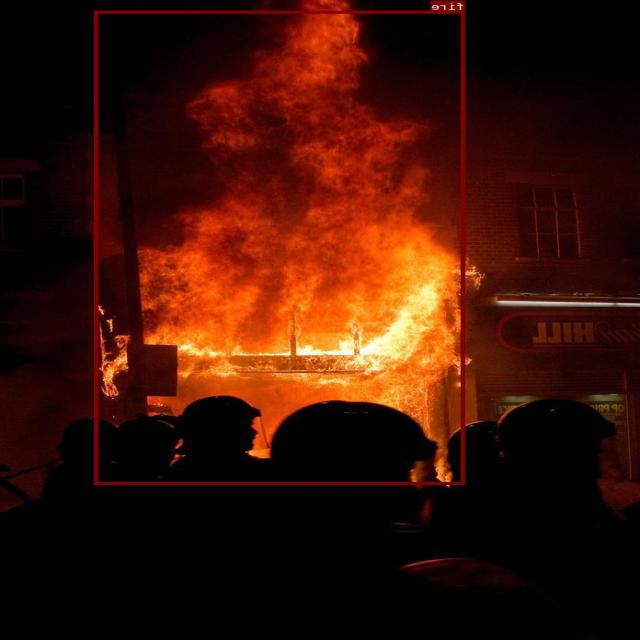fire: (96, 11, 466, 484)
